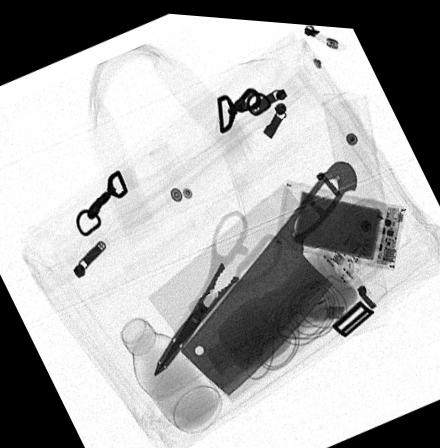Knife: (177, 156, 356, 392)
Powerbank: (274, 173, 406, 265)
Scissors: (151, 206, 281, 375)
